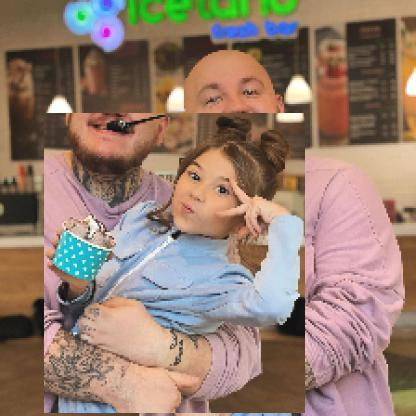child: (46, 114, 308, 415)
